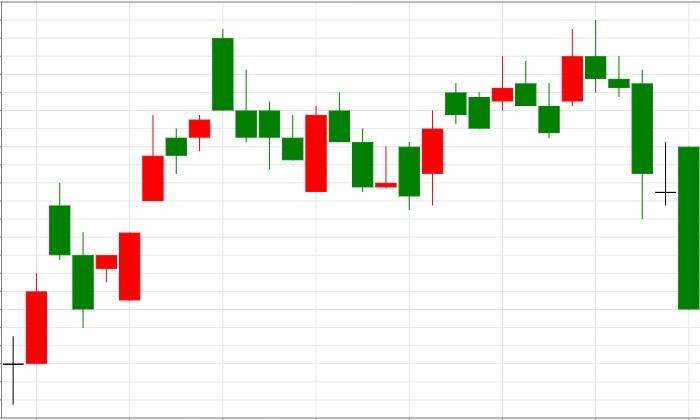bullish_engulfing_rise: (212, 29, 327, 191)
